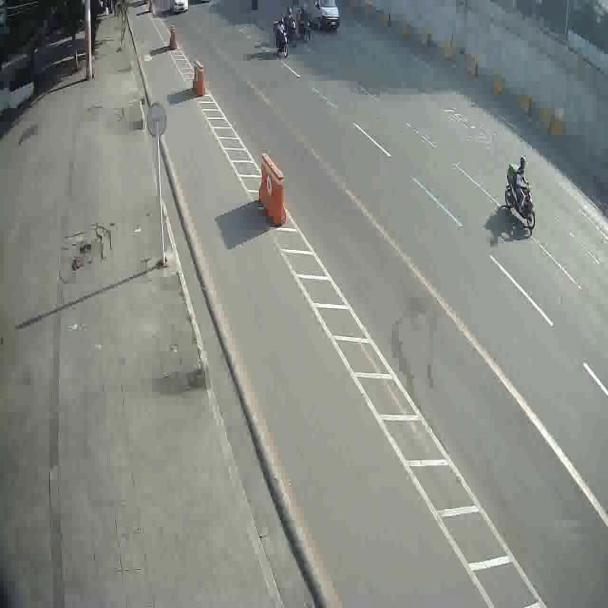motorcyclist: (503, 157, 535, 233), (272, 14, 294, 58)
vehicle: (312, 1, 342, 34)
